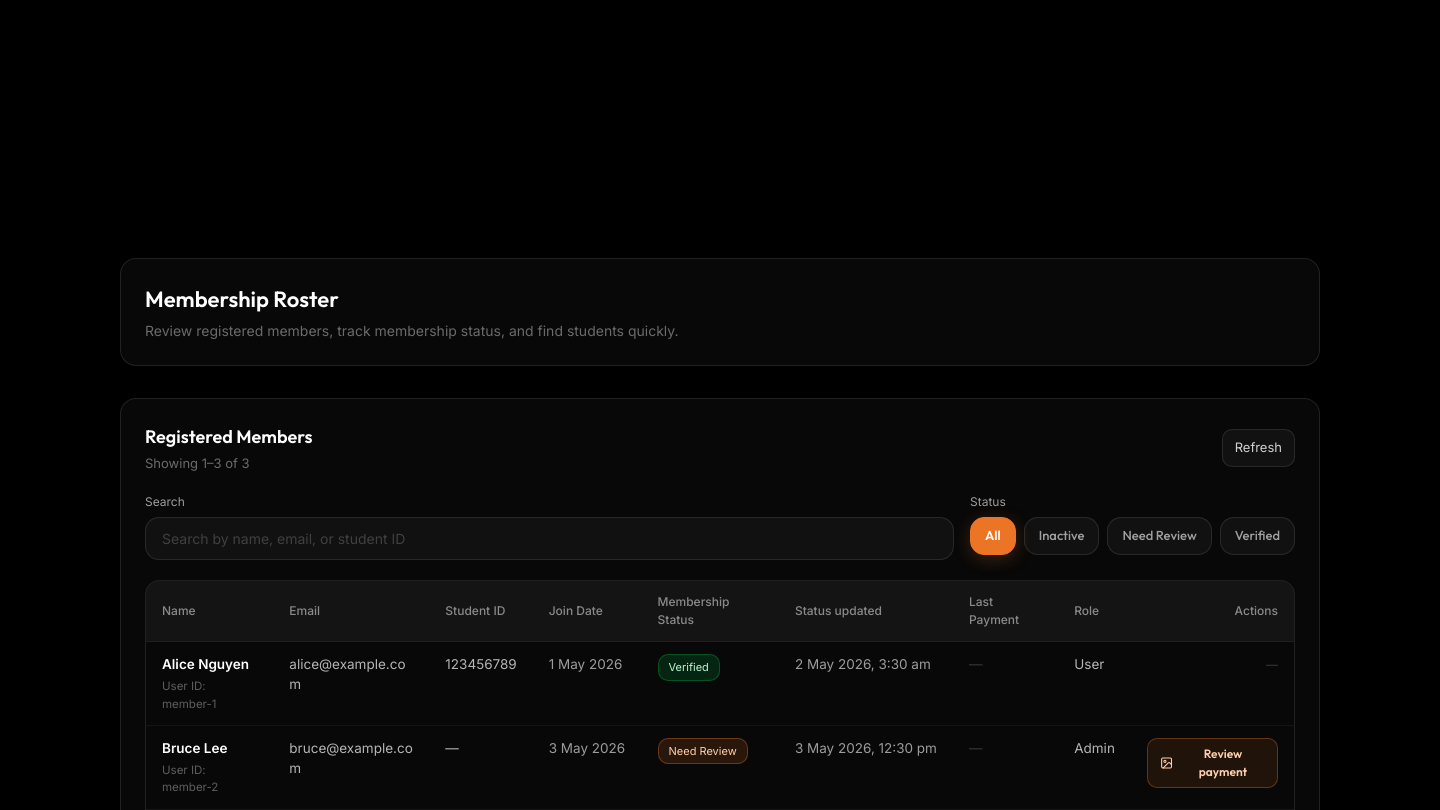
Scenario: Admin membership roster › shows a proof file error while keeping the modal open
This screenshot has width=1440, height=810.
Expected: the text "Bruce Lee" is shown, [162,740,227,756]
Click the button "Review payment". click: (1212, 763)
box: [1147,738,1278,788]
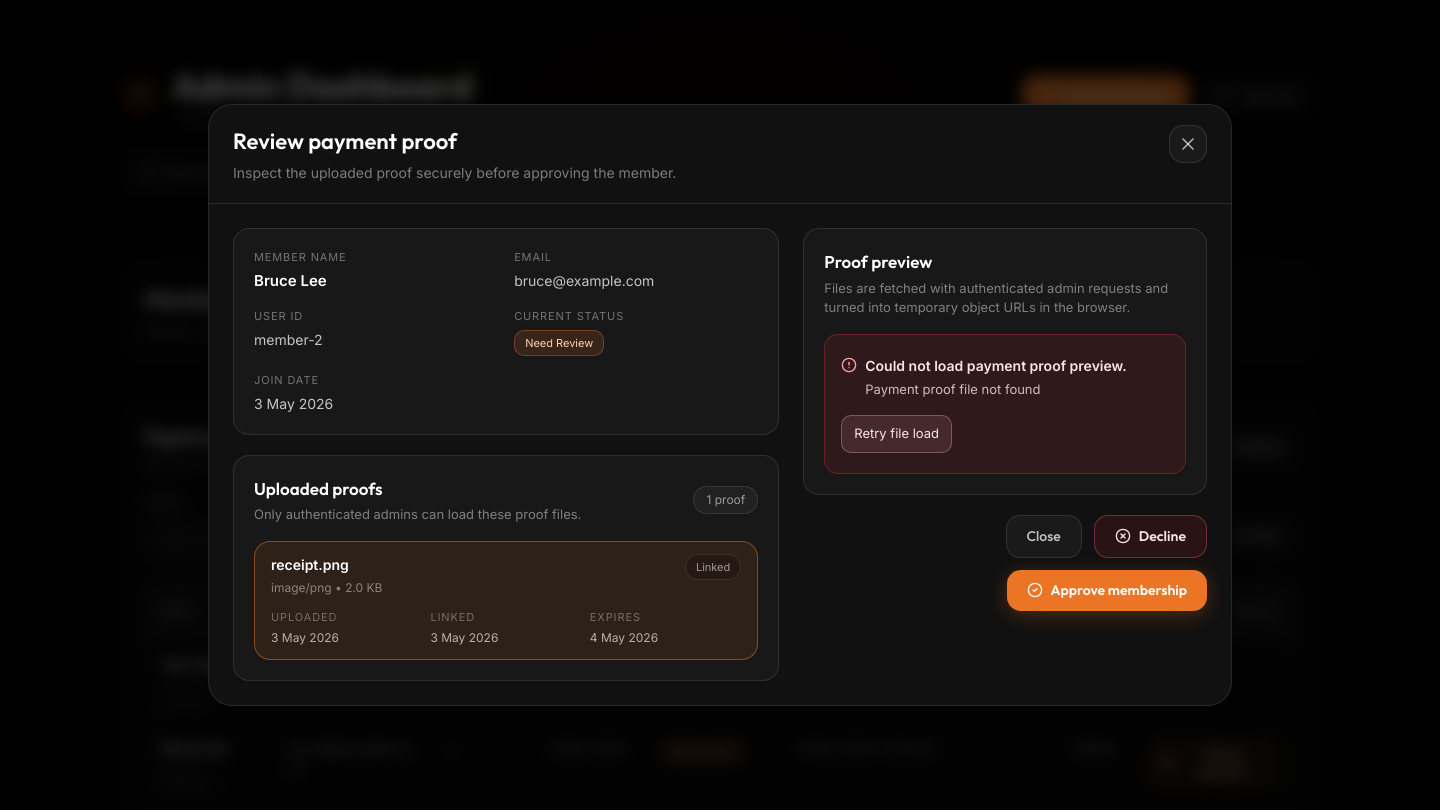
Now the text "Could not load payment proof preview." is shown, box [865,354,1127,376]
Now the text "Payment proof file not found" is shown, box [865,380,1041,396]
Now the dialog "Review payment proof" is shown, box [208,104,1232,706]
